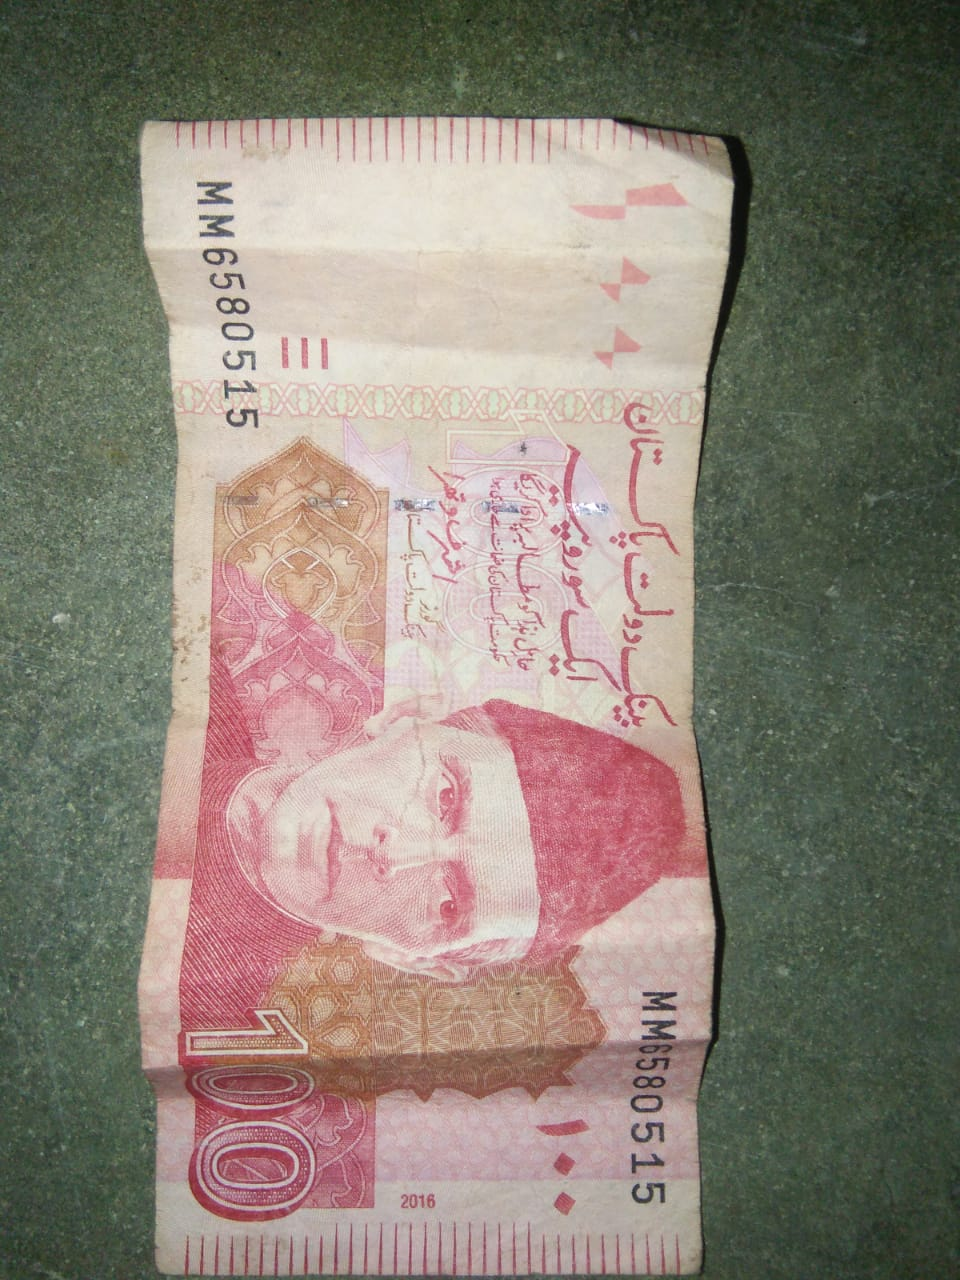100 rupee: (107, 95, 752, 1266)
